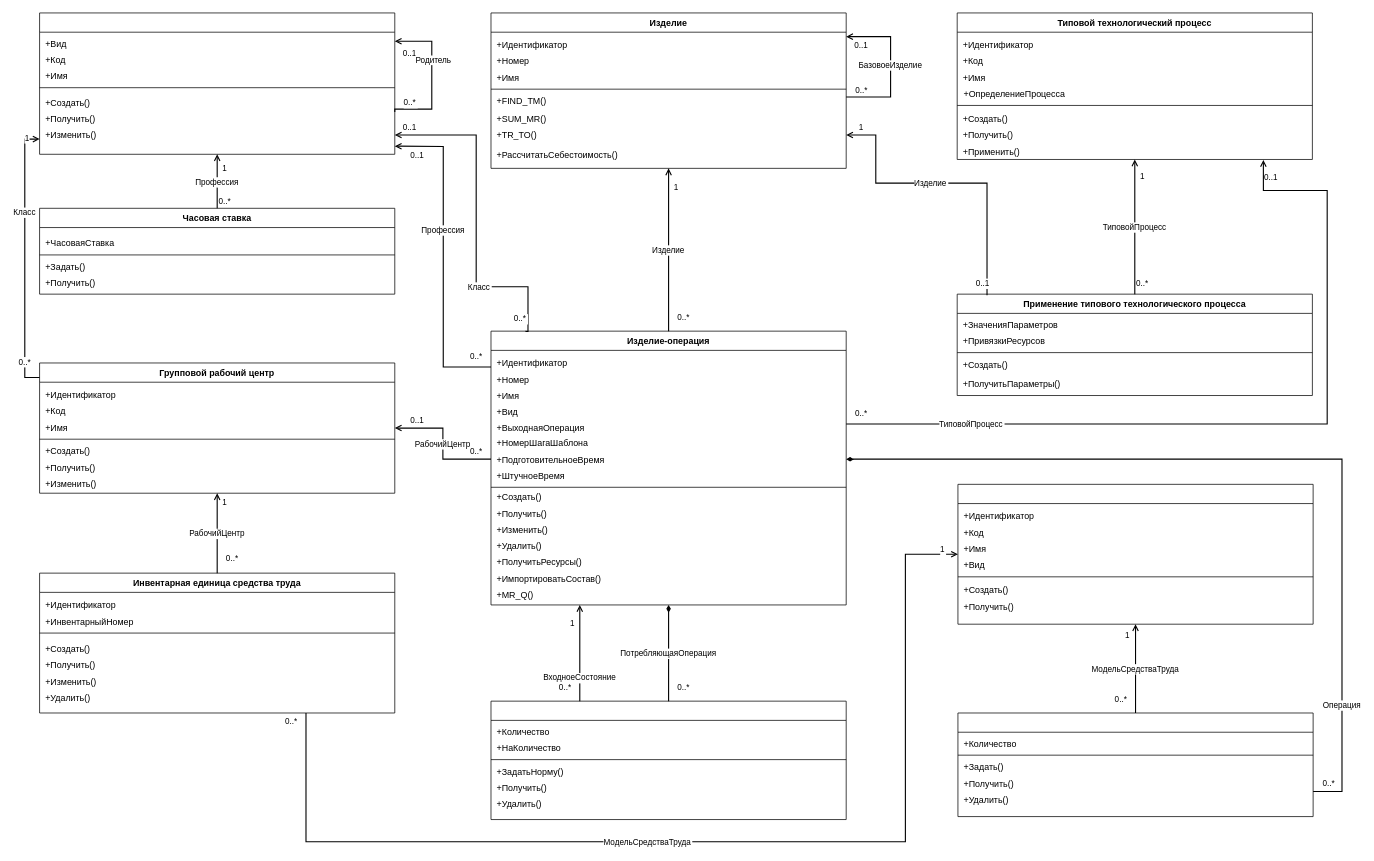
Some shapes in this 1374 by 861 pixel diagram are drawn without their labels. The shapes that lost their labels are listed below. From the top down, each one's box as (x1, y1, x2, y2) in pixels, then its label:
(39, 12, 395, 154): Класс маршрутной технологии
(957, 484, 1313, 624): Модель средства труда
(490, 700, 846, 820): Позиция входного ресурса
(957, 712, 1313, 817): Требование к средству труда
